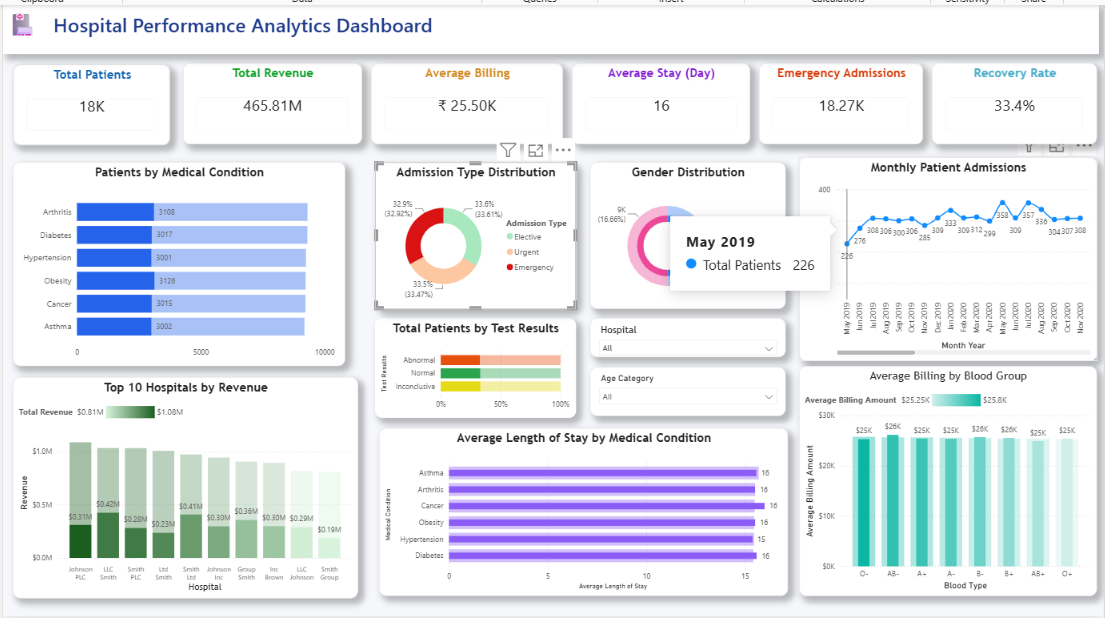

The dashboard page shown, as its layout file describes it:
{"tool":"powerbi","page":{"name":"Page 1","canvas":[1800,1000],"ordinal":0},"visuals":[{"type":"cardVisual","title":"Total Revenue","fields":{"Data":["healthcare_dataset.Total Revenue"]},"box":[294.3,94.8,292.7,132.4],"z":0},{"type":"cardVisual","title":"Total Patients","fields":{"Data":["healthcare_dataset.Total Patients"]},"box":[16,96,256.7,132.4],"z":1000},{"type":"cardVisual","title":"Average Billing","fields":{"Data":["healthcare_dataset.Average Billing Amount"]},"box":[601.7,94.8,314,132.4],"z":2000},{"type":"cardVisual","title":"Average Stay (Day)","fields":{"Data":["healthcare_dataset.Average Length of Stay"]},"box":[930.4,94.8,291.1,132.4],"z":3000},{"type":"cardVisual","title":"Emergency Admissions","fields":{"Data":["healthcare_dataset.Emergency Admissions"]},"box":[1236.2,94.8,268.2,132.4],"z":4000},{"type":"clusteredBarChart","title":"Patients by Medical Condition  ","fields":{"Category":["healthcare_dataset.Medical Condition"],"Y":["healthcare_dataset.Total Patients"]},"box":[16,256,542.9,333.6],"z":5000},{"type":"textbox","box":[0,0,1792,80],"z":6000},{"type":"lineChart","title":"Monthly Patient Admissions","fields":{"Category":["healthcare_dataset.Month Year"],"Y":["healthcare_dataset.Total Patients"]},"box":[1301.6,248.5,487.3,333.6],"z":8000},{"type":"cardVisual","title":"Recovery Rate","fields":{"Data":["healthcare_dataset.Recovery Rate"]},"box":[1519.1,94.8,269.8,132.4],"z":9000},{"type":"donutChart","title":"Gender Distribution","fields":{"Category":["healthcare_dataset.Gender"],"Y":["healthcare_dataset.Total Patients"]},"box":[960,256,320,240],"z":10000},{"type":"donutChart","title":"Admission Type Distribution","fields":{"Category":["healthcare_dataset.Admission Type"],"Y":["healthcare_dataset.Total Patients"]},"box":[608,256,328.7,240.4],"z":11000},{"type":"clusteredColumnChart","title":"Top 10 Hospitals by Revenue","fields":{"Category":["healthcare_dataset.Hospital"],"Y":["healthcare_dataset.Total Revenue"]},"box":[16,608,564.1,361.4],"z":12000},{"type":"hundredPercentStackedBarChart","fields":{"Category":["healthcare_dataset.Test Results"],"Y":["healthcare_dataset.Total Patients"]},"box":[608,512,328.7,163.5],"z":13000},{"type":"slicer","fields":{"Values":["healthcare_dataset.Hospital"]},"box":[960,512,320,64],"z":14000},{"type":"slicer","fields":{"Values":["healthcare_dataset.Age Category"]},"box":[960,592,320,80],"z":15000},{"type":"clusteredColumnChart","title":"Average Billing by Blood Group","fields":{"Category":["healthcare_dataset.Blood Type"],"Y":["healthcare_dataset.Average Billing Amount"]},"box":[1301.6,590.3,487,376],"z":16000},{"type":"clusteredBarChart","fields":{"Category":["healthcare_dataset.Medical Condition"],"Y":["healthcare_dataset.Average Length of Stay"]},"box":[614.8,691.7,668.8,274.7],"z":17000}]}

Visuals, with their boxes in screenshot pixels (x1, y1, x2, y2):
"Total Revenue" cardVisual: <bbox>190, 66, 367, 146</bbox>
"Total Patients" cardVisual: <bbox>21, 67, 177, 147</bbox>
"Average Billing" cardVisual: <bbox>376, 66, 566, 146</bbox>
"Average Stay (Day)" cardVisual: <bbox>575, 66, 751, 146</bbox>
"Emergency Admissions" cardVisual: <bbox>760, 66, 922, 146</bbox>
"Patients by Medical Condition  " clusteredBarChart: <bbox>21, 164, 350, 366</bbox>
textbox: <bbox>12, 9, 1096, 57</bbox>
"Monthly Patient Admissions" lineChart: <bbox>799, 159, 1095, 361</bbox>
"Recovery Rate" cardVisual: <bbox>931, 66, 1095, 146</bbox>
"Gender Distribution" donutChart: <bbox>593, 164, 786, 309</bbox>
"Admission Type Distribution" donutChart: <bbox>380, 164, 579, 309</bbox>
"Top 10 Hospitals by Revenue" clusteredColumnChart: <bbox>21, 377, 363, 596</bbox>
hundredPercentStackedBarChart - healthcare_dataset.Test Results x healthcare_dataset.Total Patients: <bbox>380, 319, 579, 418</bbox>
slicer - healthcare_dataset.Hospital: <bbox>593, 319, 786, 357</bbox>
slicer - healthcare_dataset.Age Category: <bbox>593, 367, 786, 415</bbox>
"Average Billing by Blood Group" clusteredColumnChart: <bbox>799, 366, 1094, 594</bbox>
clusteredBarChart - healthcare_dataset.Medical Condition x healthcare_dataset.Average Length of Stay: <bbox>384, 427, 789, 594</bbox>
